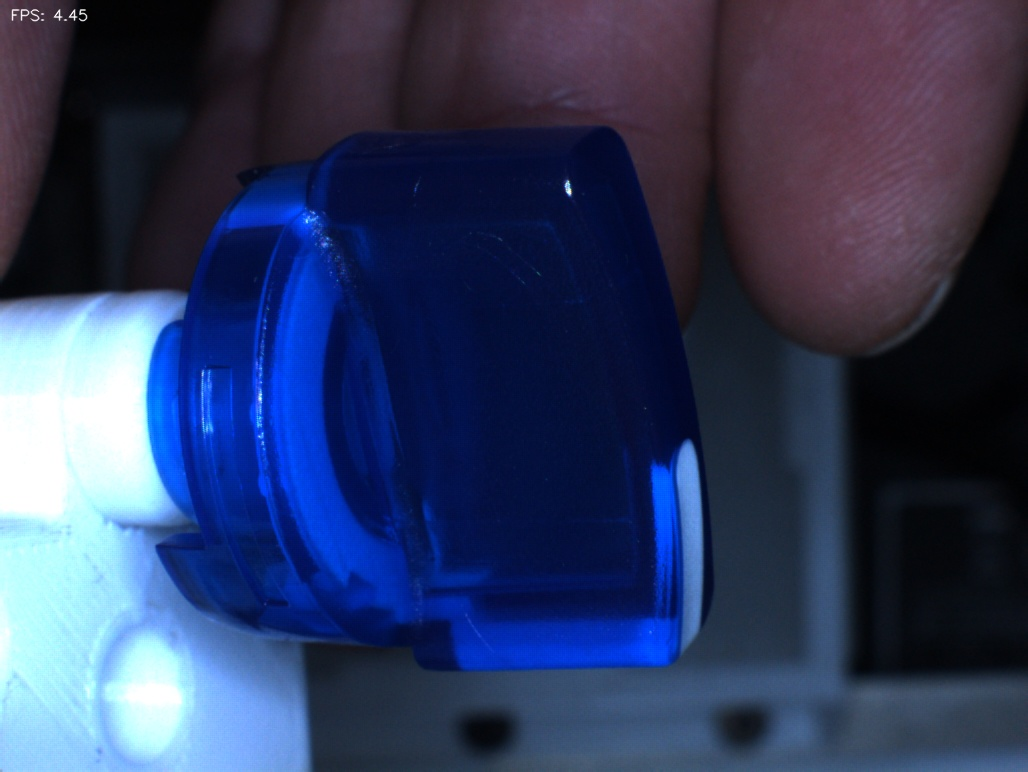Givrage: (441, 220, 565, 328)
